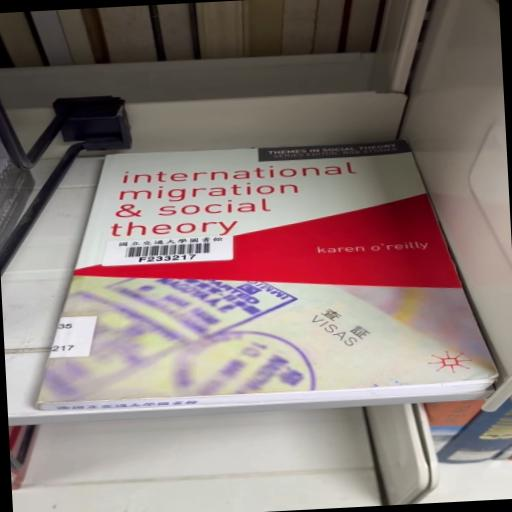flat: (37, 142, 497, 415)
